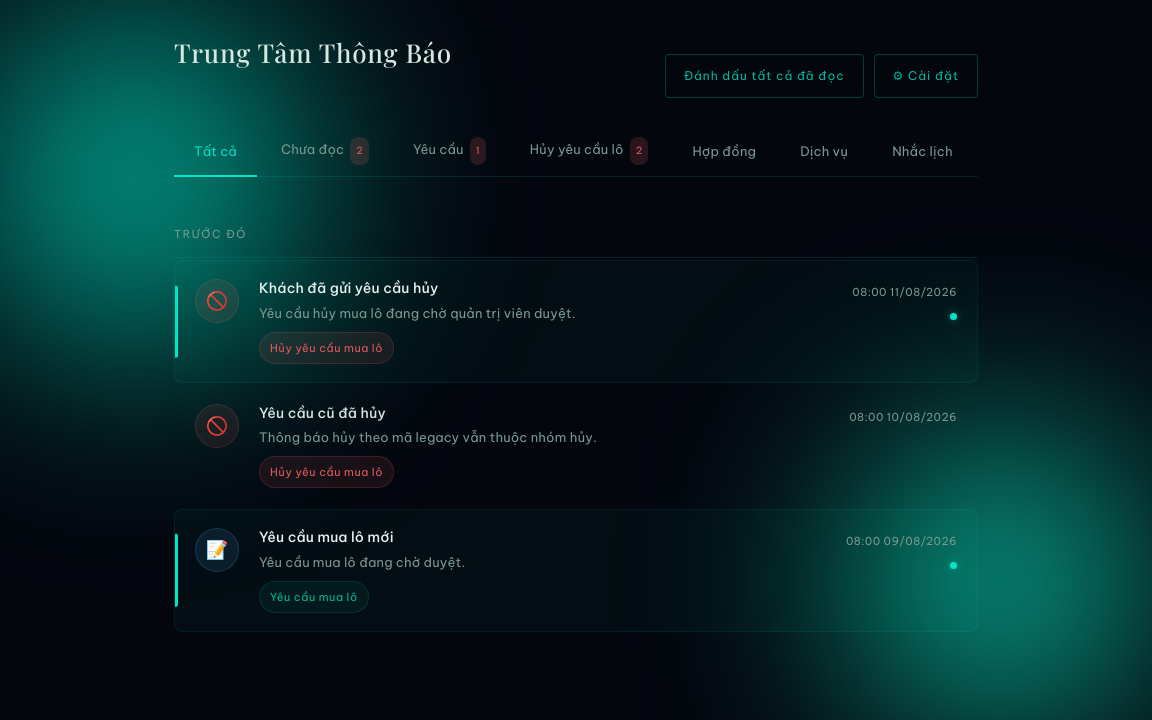
Test: NotificationPage cancellation group › separates cancellation notifications and opens the matching request
Expected: the text "Khách đã gửi yêu cầu hủy" is shown, [259,279,438,297]
Click the button "Hủy yêu cầu lô 2".
click(589, 152)  # box [510,126,668,177]
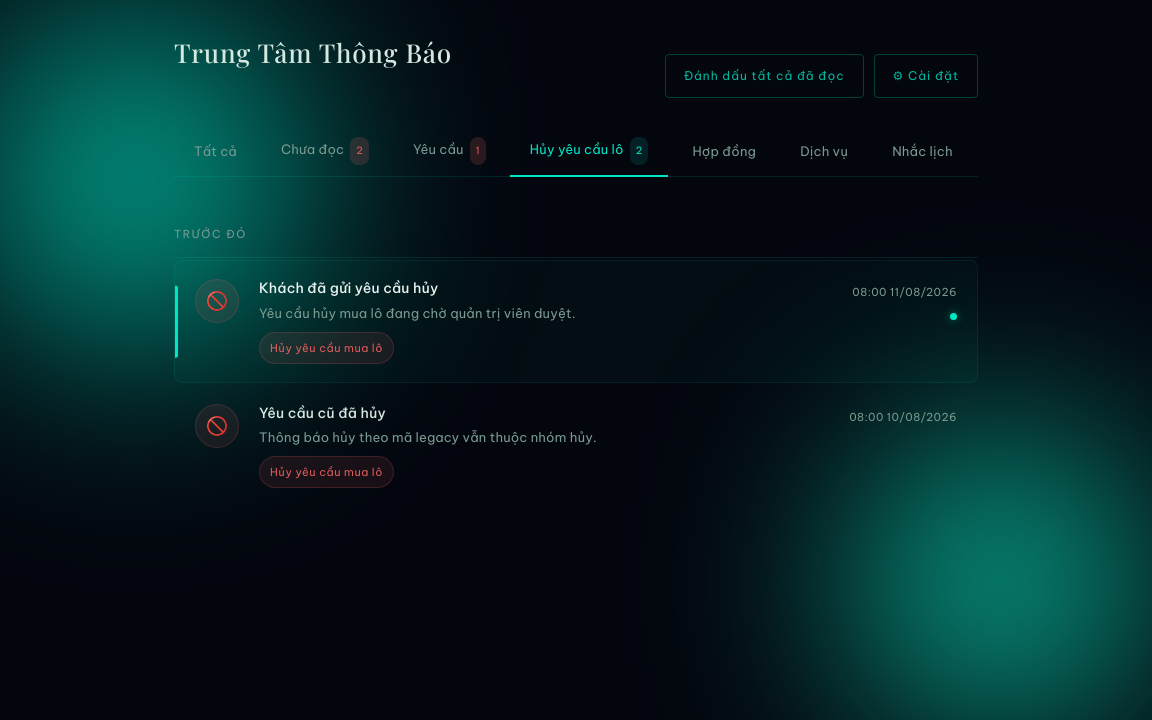
Expected: the text "Khách đã gửi yêu cầu hủy" is shown, [259,279,438,297]
Expected: the text "Yêu cầu mua lô mới" is gone
Expected: the text "Hủy yêu cầu mua lô" is shown 2 times, [259,332,394,364]; [259,456,394,488]
Click the text "Khách đã gửi yêu cầu hủy".
click(576, 322)  # box [174,260,978,383]
(page scrolled)
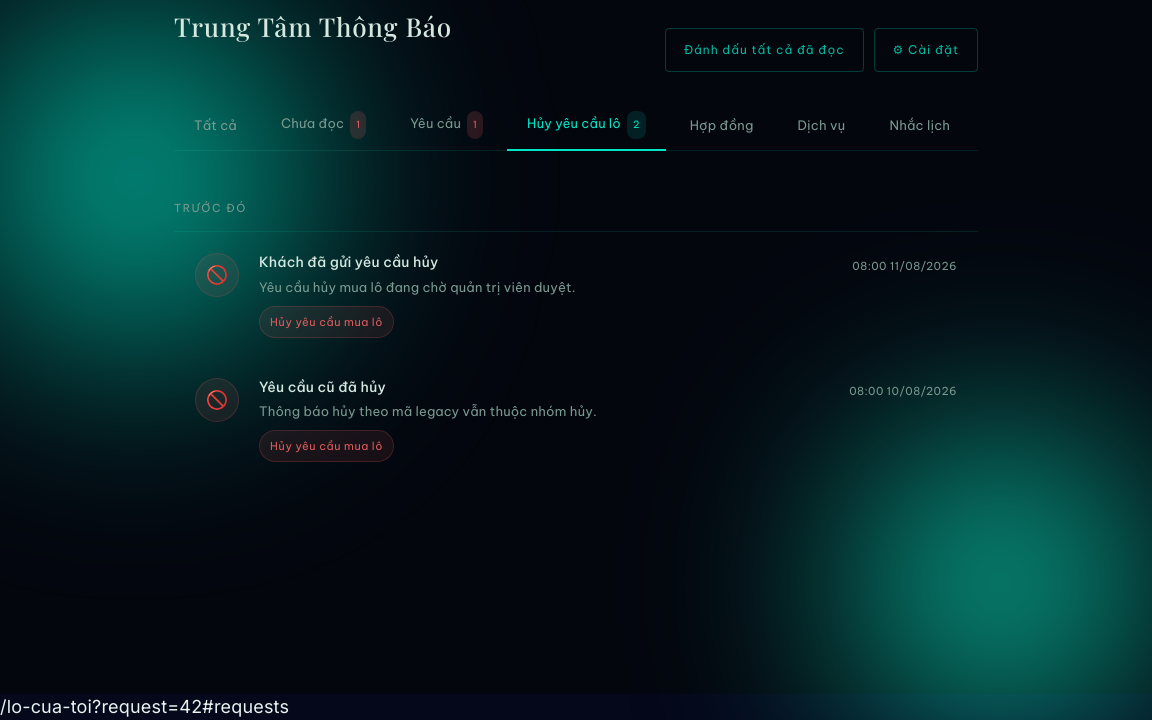
Expected: the text with test id "current-location" reads "/lo-cua-toi?request=42#requests", [0,696,289,717]
